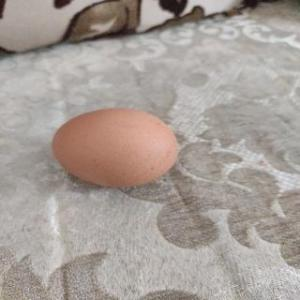egg: (52, 107, 178, 187)
